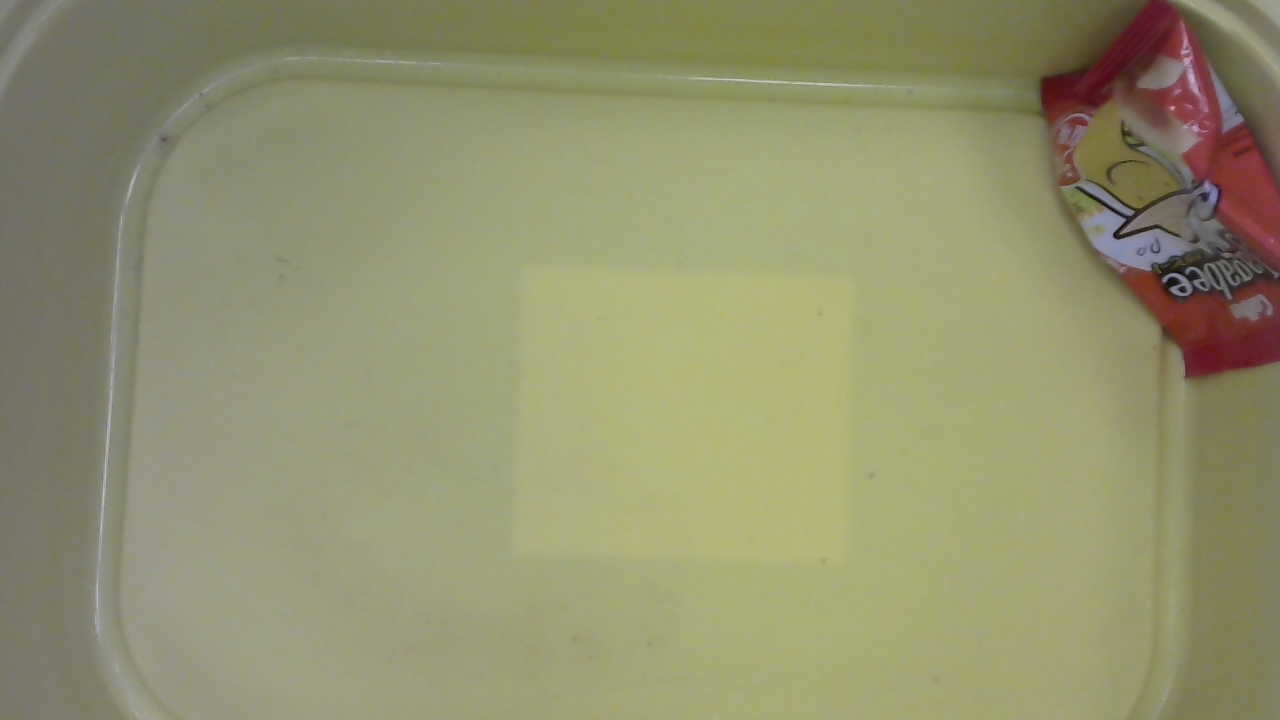JagabeeFarmer: (992, 3, 1280, 402)
